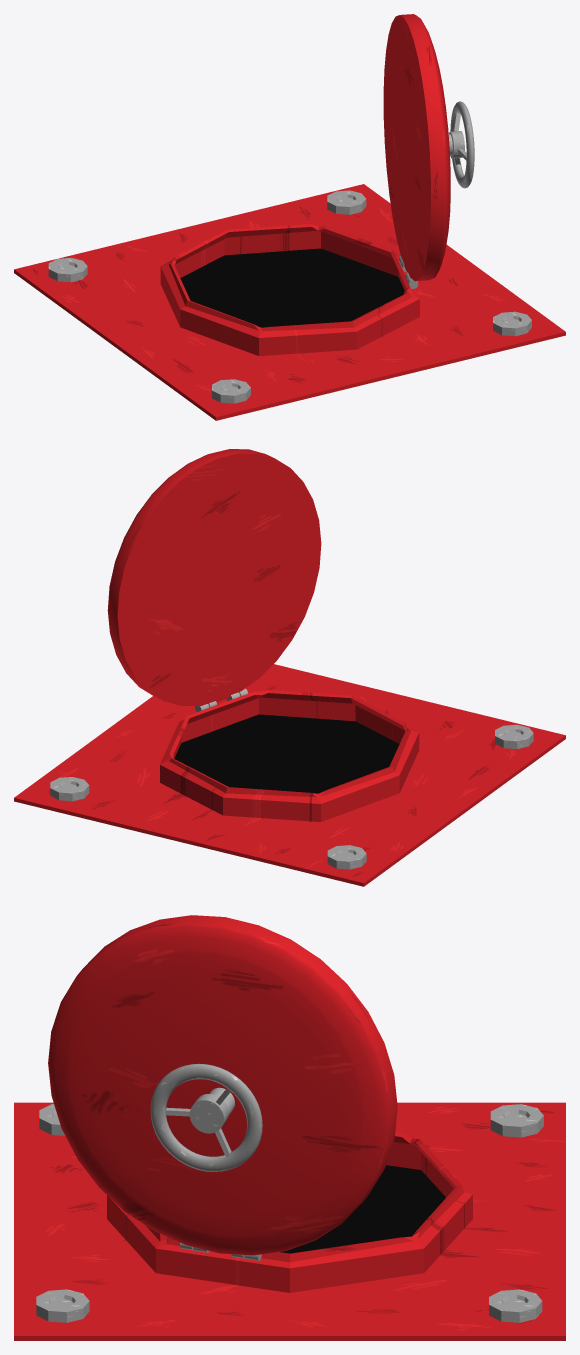
The model's file is trappe.fbx.
3 views of the same model, one above another, from view 1: azimuth 30°, elevation 25°; view 2: azimuth 150°, elevation 25°; view 3: azimuth 270°, elevation 25° (orthographic). The views are drawn at different scales.
Parts seen in each view (by area): view 1: Plane, Cylinder, Plane.001, Torus, boulon.003, boulon.001, boulon, boulon.002, Cylinder.004; view 2: Plane, Cylinder, Plane.001, boulon.001, boulon.003, boulon; view 3: Cylinder, Plane, Plane.001, Torus, Cylinder.004, boulon.003, boulon.002, boulon.001, boulon.
Boxes of the visible parts, bbox=[...] form: Plane: bbox=[14, 184, 565, 420]; Cylinder: bbox=[383, 14, 450, 281]; Plane.001: bbox=[180, 248, 404, 327]; Torus: bbox=[450, 101, 474, 188]; boulon.003: bbox=[327, 190, 366, 214]; boulon.001: bbox=[48, 258, 87, 282]; boulon: bbox=[212, 379, 250, 403]; boulon.002: bbox=[493, 311, 531, 336]; Cylinder.004: bbox=[449, 112, 466, 164]; Plane: bbox=[14, 664, 565, 886]; Cylinder: bbox=[107, 449, 321, 706]; Plane.001: bbox=[174, 714, 399, 793]; boulon.001: bbox=[327, 845, 366, 869]; boulon.003: bbox=[50, 777, 89, 801]; boulon: bbox=[495, 724, 533, 749]; Cylinder: bbox=[48, 915, 397, 1255]; Plane: bbox=[14, 1102, 565, 1340]; Plane.001: bbox=[280, 1165, 445, 1253]; Torus: bbox=[150, 1063, 262, 1171]; Cylinder.004: bbox=[165, 1088, 231, 1157]; boulon.003: bbox=[489, 1289, 542, 1322]; boulon.002: bbox=[36, 1289, 89, 1322]; boulon.001: bbox=[490, 1104, 543, 1137]; boulon: bbox=[39, 1104, 65, 1135].
Size of the model in its own units: 200 by 149 by 200.
4 materials, 2 textured.
